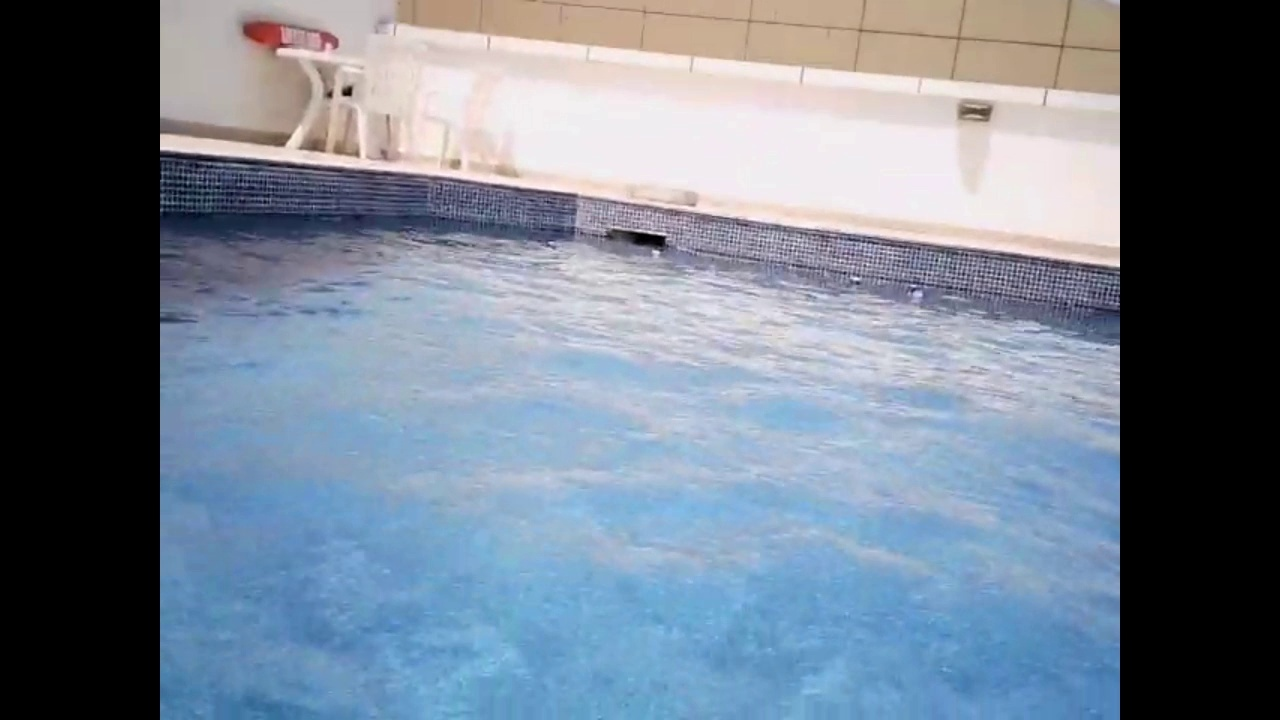debris: (902, 279, 926, 305), (850, 270, 866, 289), (650, 246, 662, 258)
